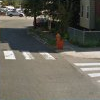crosswalk: (0, 49, 56, 60), (72, 62, 100, 82)
